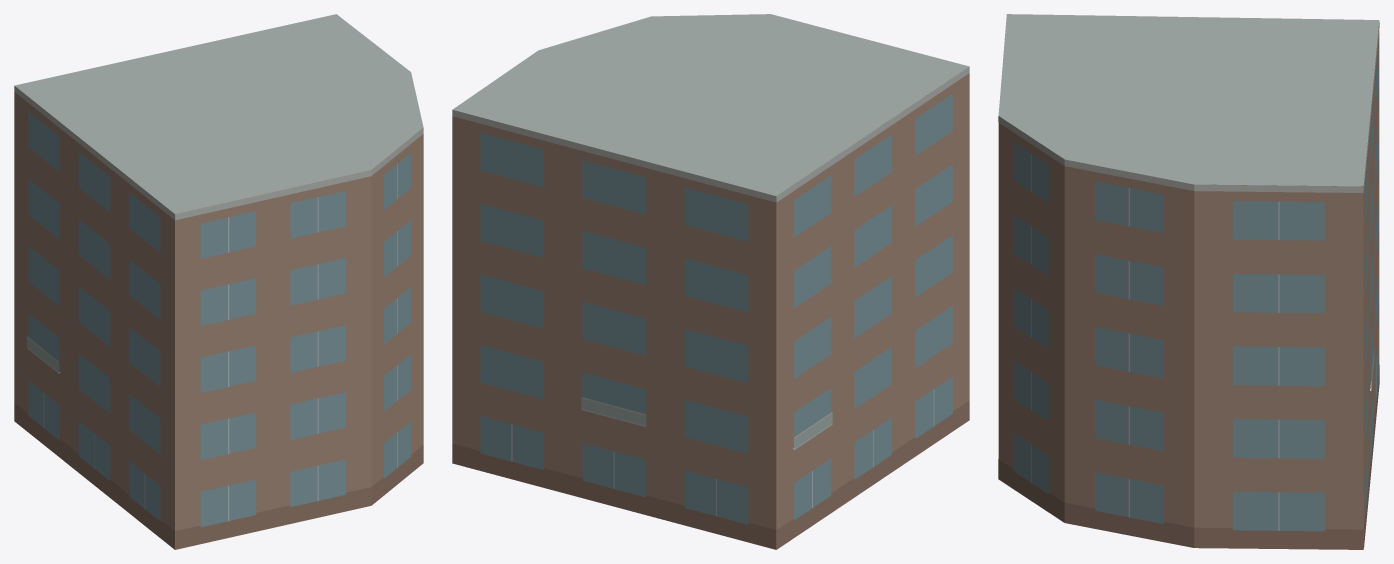
The model's file is survey-upis-32835449.glb.
The picture shows the model from 3 angles, left to right: view 1: azimuth 30°, elevation 25°; view 2: azimuth 150°, elevation 25°; view 3: azimuth 270°, elevation 25°; orthographic projection. The views are drawn at different scales.
Parts seen in each view (by area): view 1: survey-upis-32835449.tmp; view 2: survey-upis-32835449.tmp; view 3: survey-upis-32835449.tmp.
Part boxes in pixels (<box>): survey-upis-32835449.tmp: <box>14,14,423,549</box>; survey-upis-32835449.tmp: <box>452,14,969,549</box>; survey-upis-32835449.tmp: <box>998,14,1379,549</box>.
Bounding box in the file's own units: 13.64 × 13.4 × 12.74.
